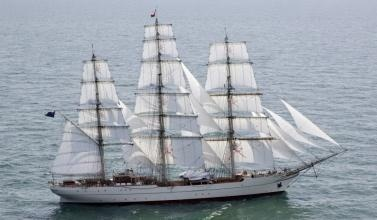fanchuan: (42, 8, 352, 207)
